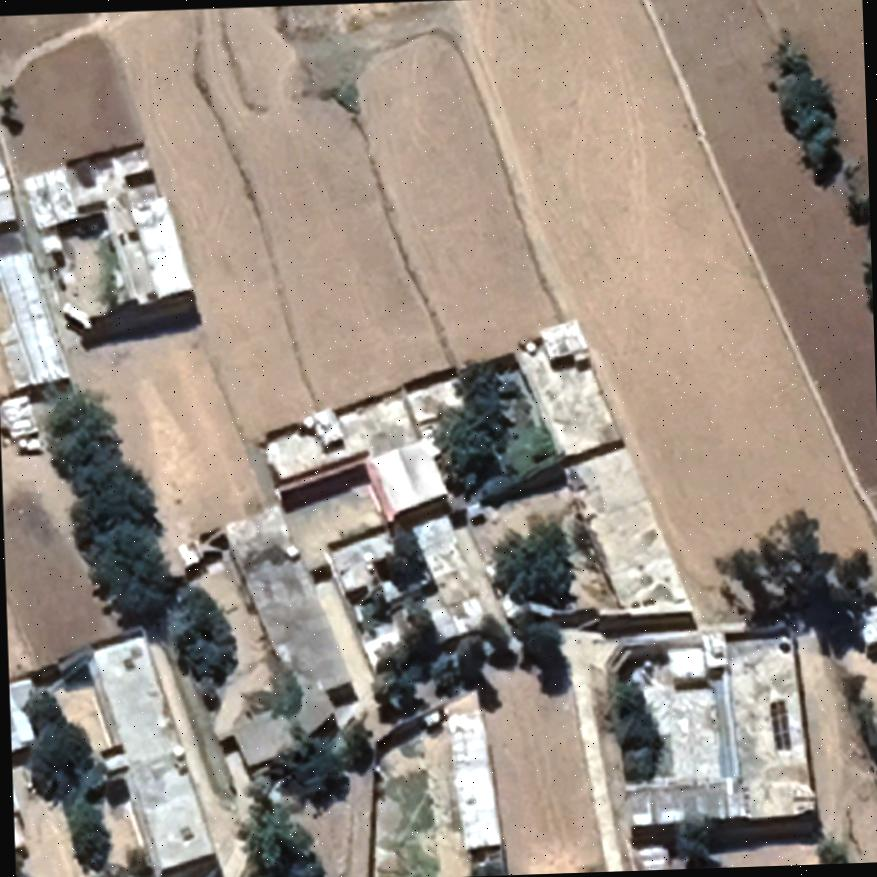Solarpanel: (765, 693, 795, 757)
